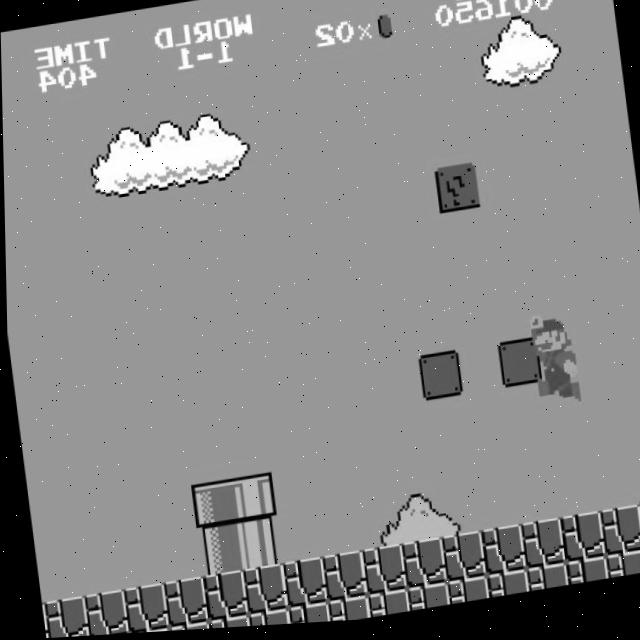0- big_mario: (526, 314, 581, 414)
13- mystery_block: (433, 167, 479, 218)
14- pipe: (233, 520, 280, 572), (193, 526, 240, 578)
15- pipe_head: (188, 481, 235, 533), (228, 475, 274, 527)
17- undestructible_block: (437, 535, 484, 588), (318, 553, 365, 606), (159, 577, 206, 630), (477, 529, 524, 581), (398, 541, 445, 593), (358, 547, 405, 599), (199, 572, 246, 624), (119, 583, 166, 635), (557, 517, 603, 569), (517, 523, 563, 575), (279, 559, 325, 611), (239, 565, 285, 617), (596, 511, 640, 563), (79, 590, 126, 637), (40, 595, 87, 639), (562, 562, 606, 591), (522, 568, 566, 597), (483, 574, 526, 603), (443, 580, 486, 609), (404, 587, 447, 616), (364, 593, 407, 622), (324, 598, 367, 625), (602, 556, 640, 585), (284, 604, 327, 627), (245, 610, 288, 629), (205, 616, 248, 631), (165, 623, 208, 633), (39, 601, 47, 639), (636, 506, 640, 557)
3- empty_block: (494, 342, 541, 394), (415, 354, 462, 406)
